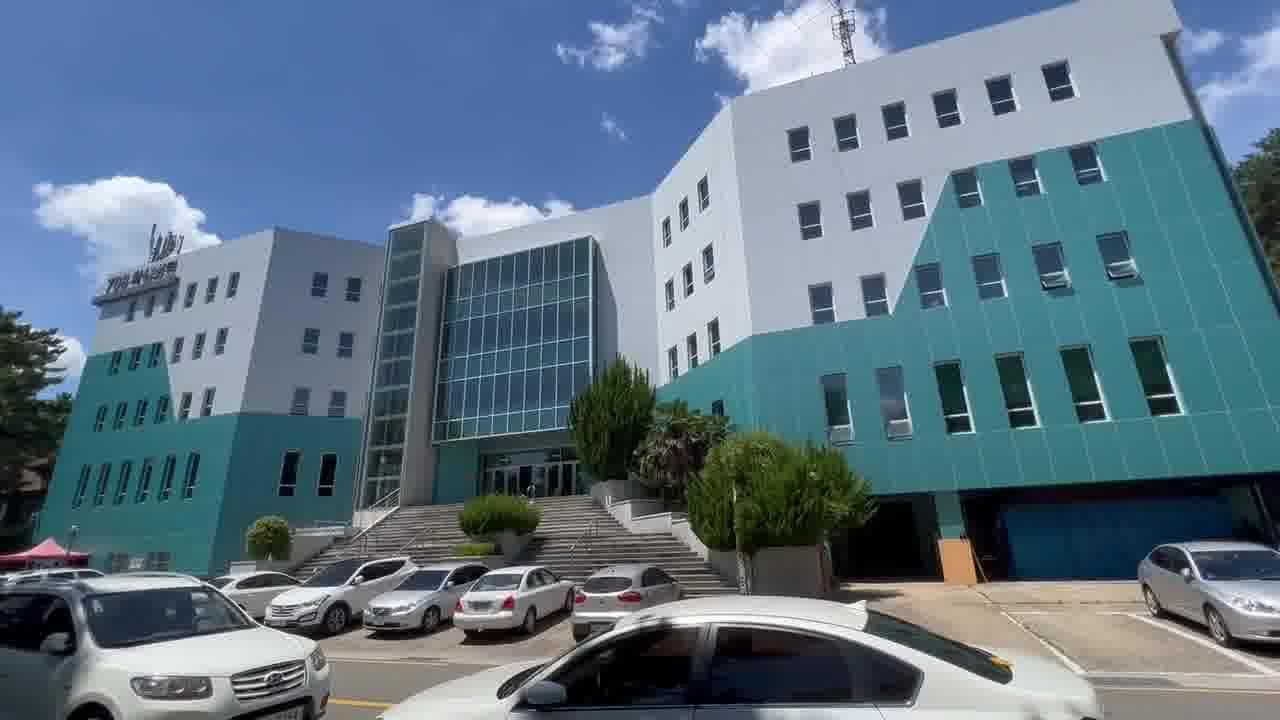building: (74, 8, 1280, 522)
